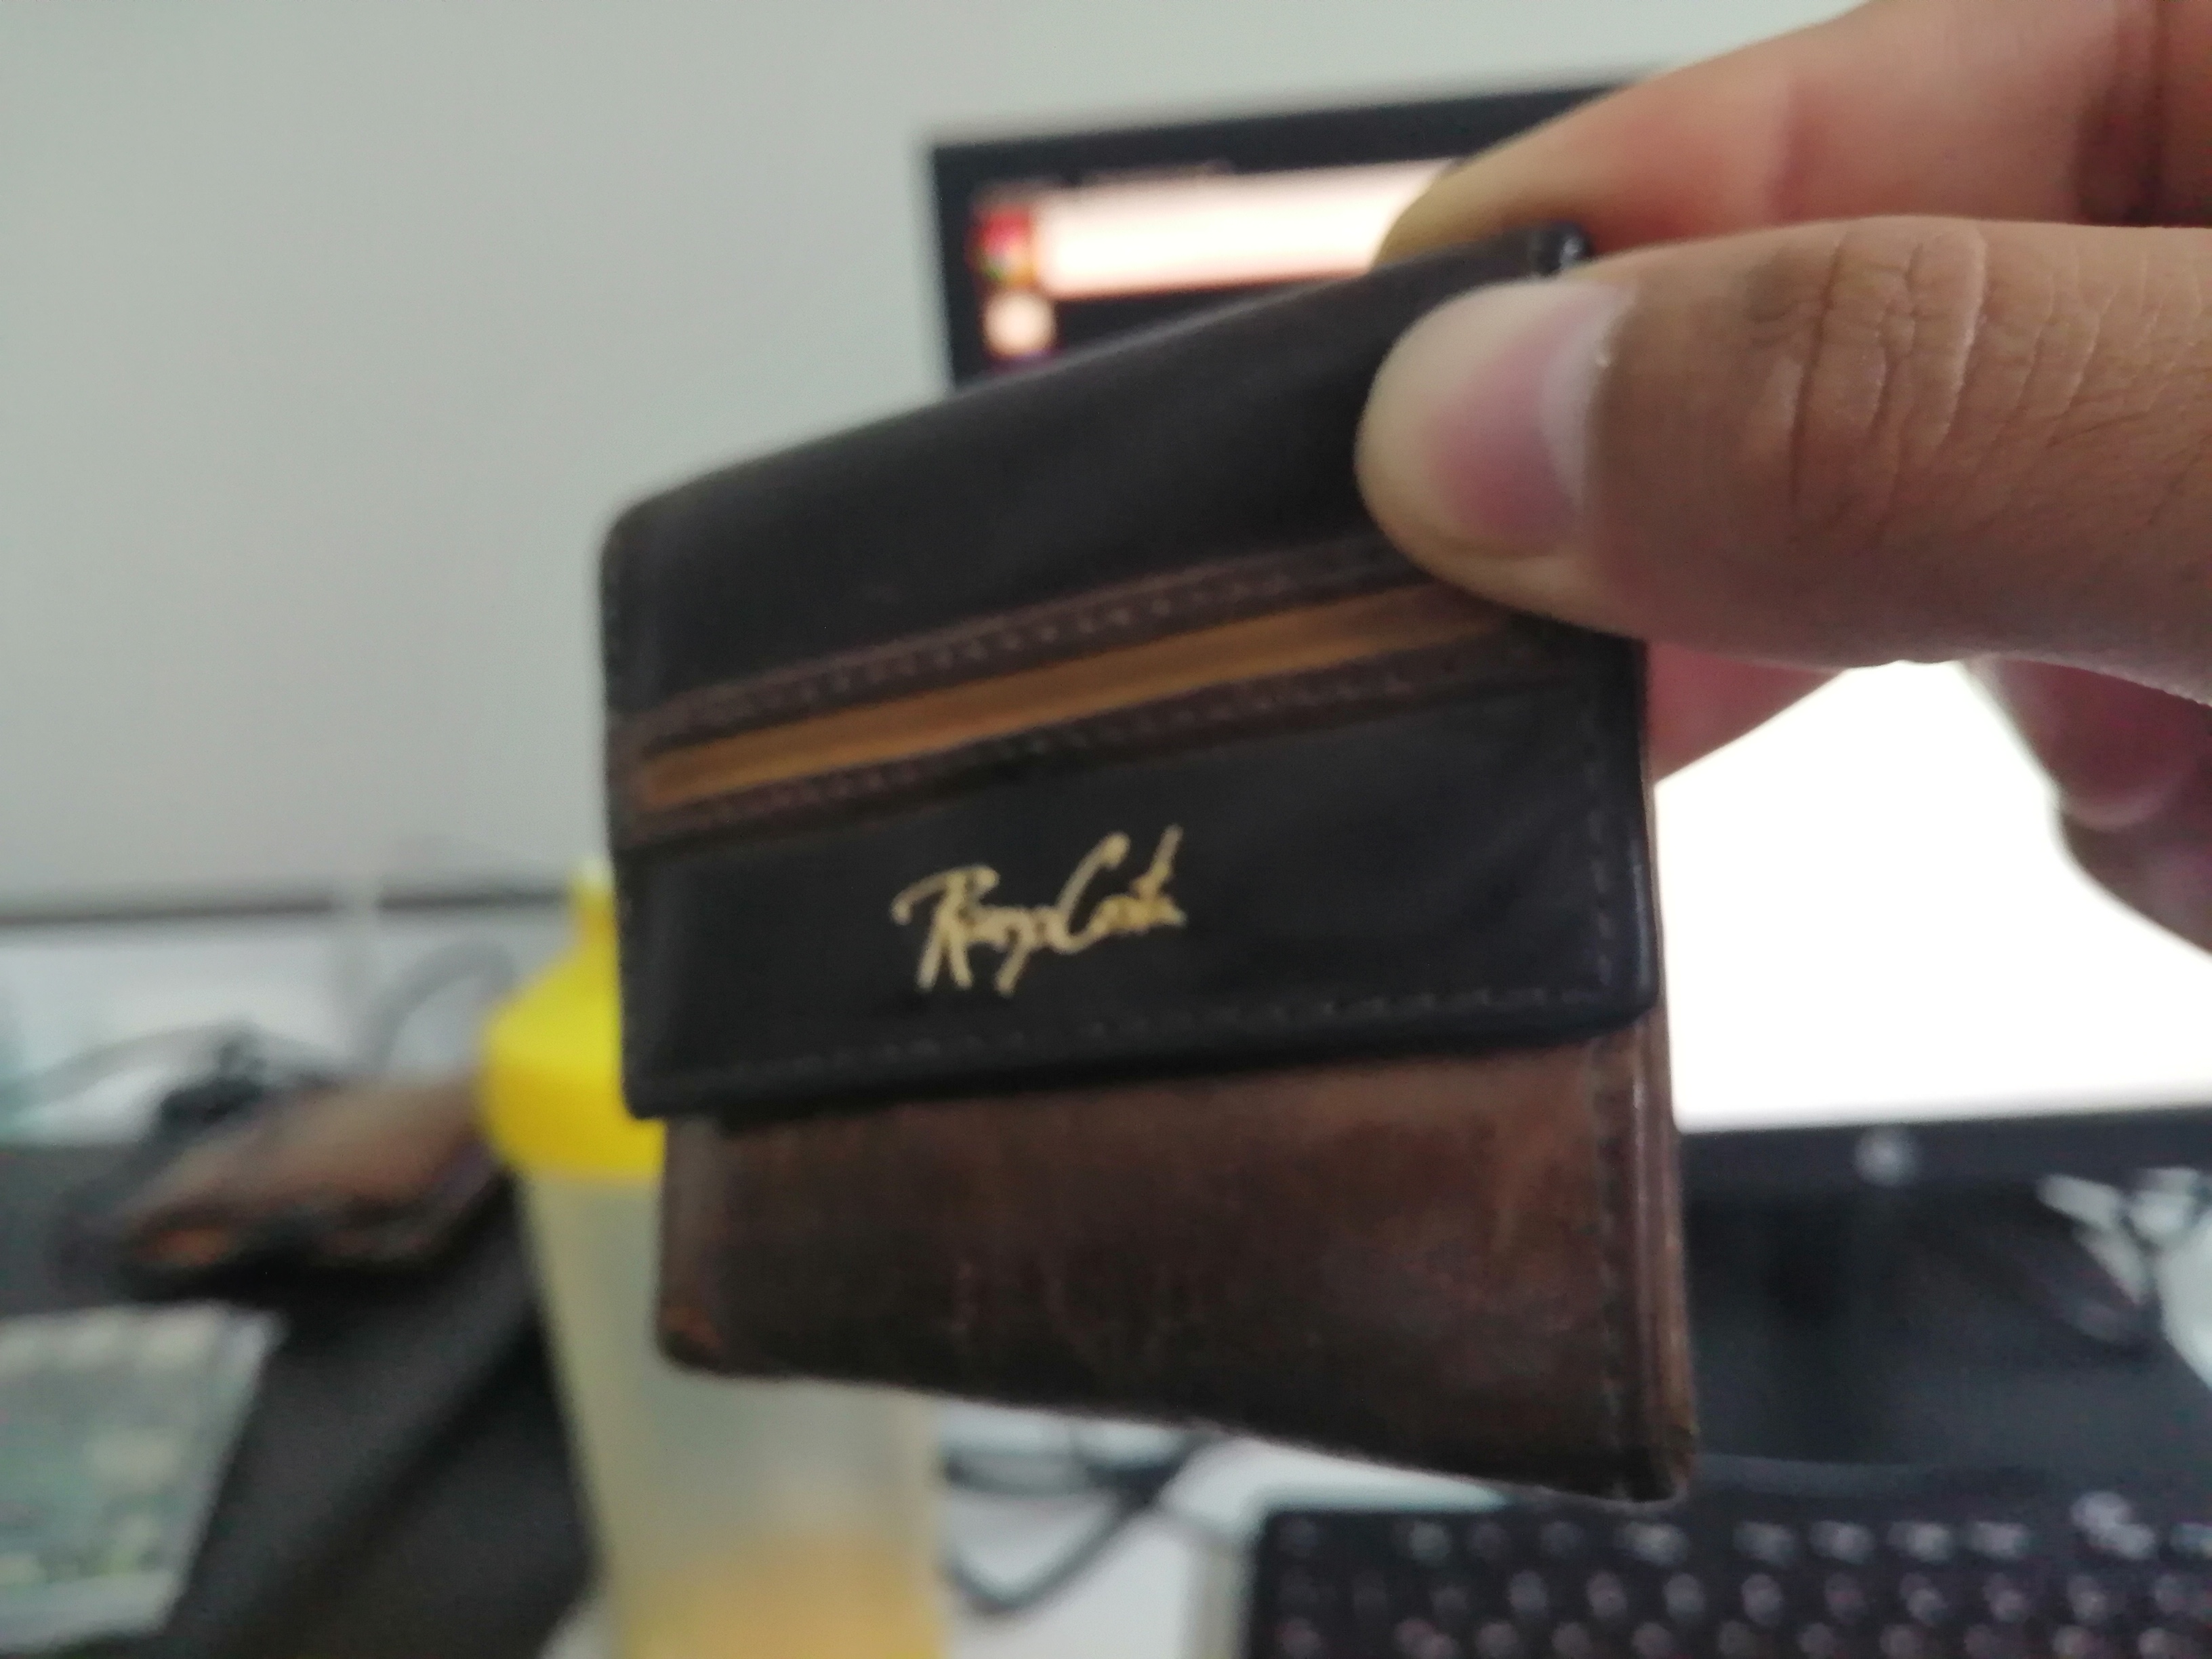monedero: (575, 211, 1723, 1537)
